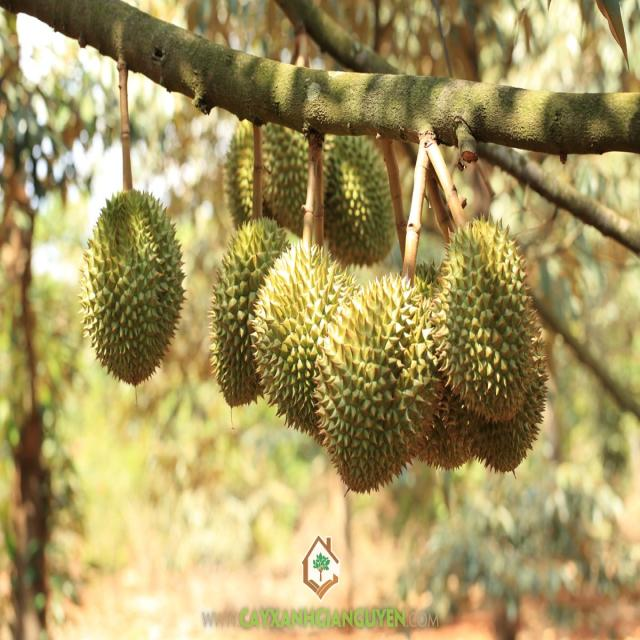Sau Rieng: (430, 214, 550, 461), (325, 272, 447, 504), (77, 186, 187, 386), (250, 247, 356, 438), (209, 215, 293, 406), (322, 132, 393, 265), (266, 120, 312, 227), (224, 118, 262, 227)
